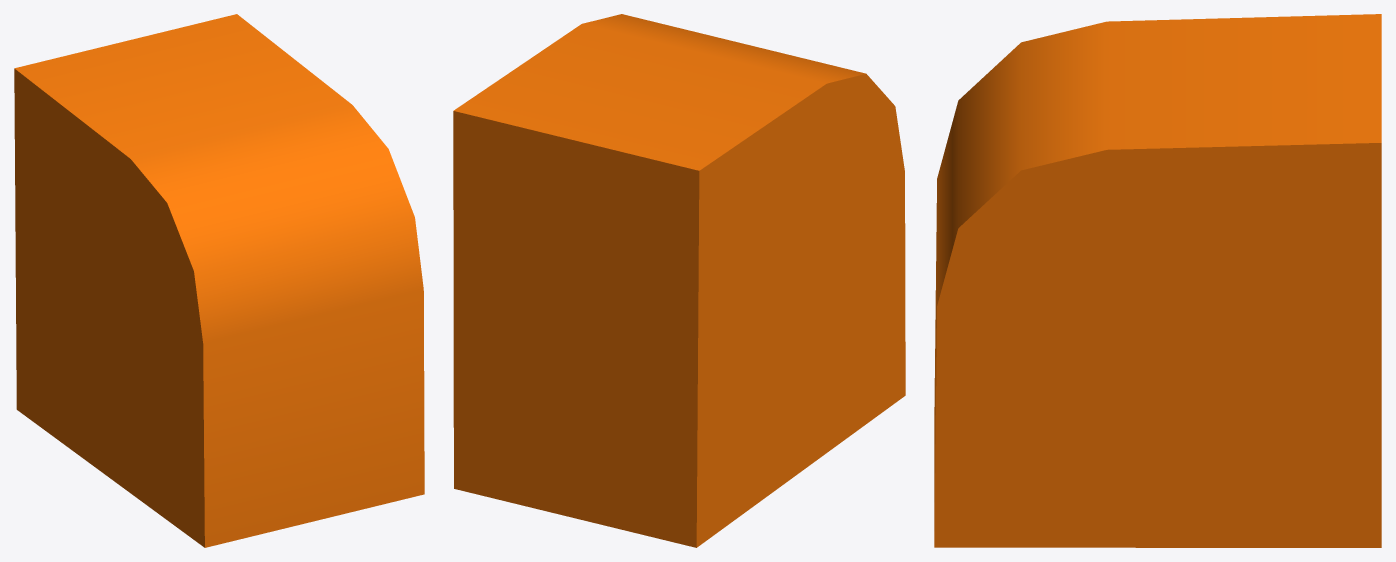
The model's file is Platform C Side Corner.fbx.
3 renders of one model, left to right at view 1: azimuth 30°, elevation 25°; view 2: azimuth 150°, elevation 25°; view 3: azimuth 270°, elevation 25°, orthographic. The views are drawn at different scales.
Parts seen in each view (by area): view 1: Platform C Side.002; view 2: Platform C Side.002; view 3: Platform C Side.002.
Boxes of the visible parts, x1,y1,x2,y2 form: Platform C Side.002: (14, 14, 424, 547); Platform C Side.002: (453, 14, 905, 547); Platform C Side.002: (934, 14, 1381, 547).
Size of the model in its own units: 0.7022 by 1.03 by 1.03.
